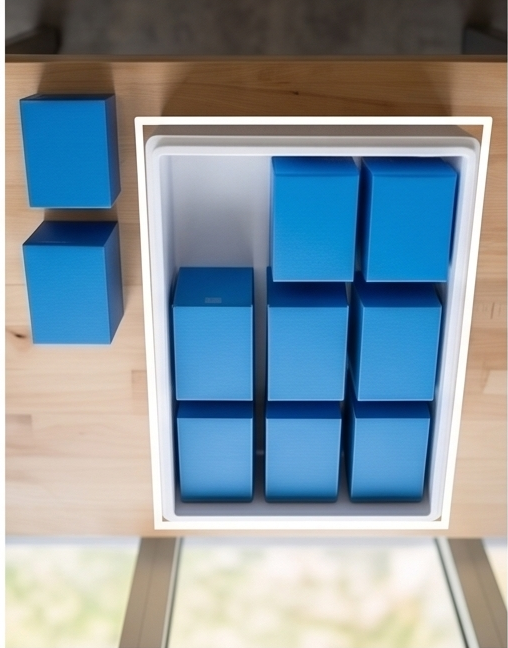blue_box: (22, 220, 125, 345), (357, 157, 457, 283), (348, 271, 443, 399), (18, 92, 121, 209), (270, 156, 359, 283), (266, 266, 348, 401), (172, 267, 253, 400), (344, 400, 430, 502), (173, 398, 254, 503), (265, 400, 342, 505)
container_box: (135, 116, 492, 531)
